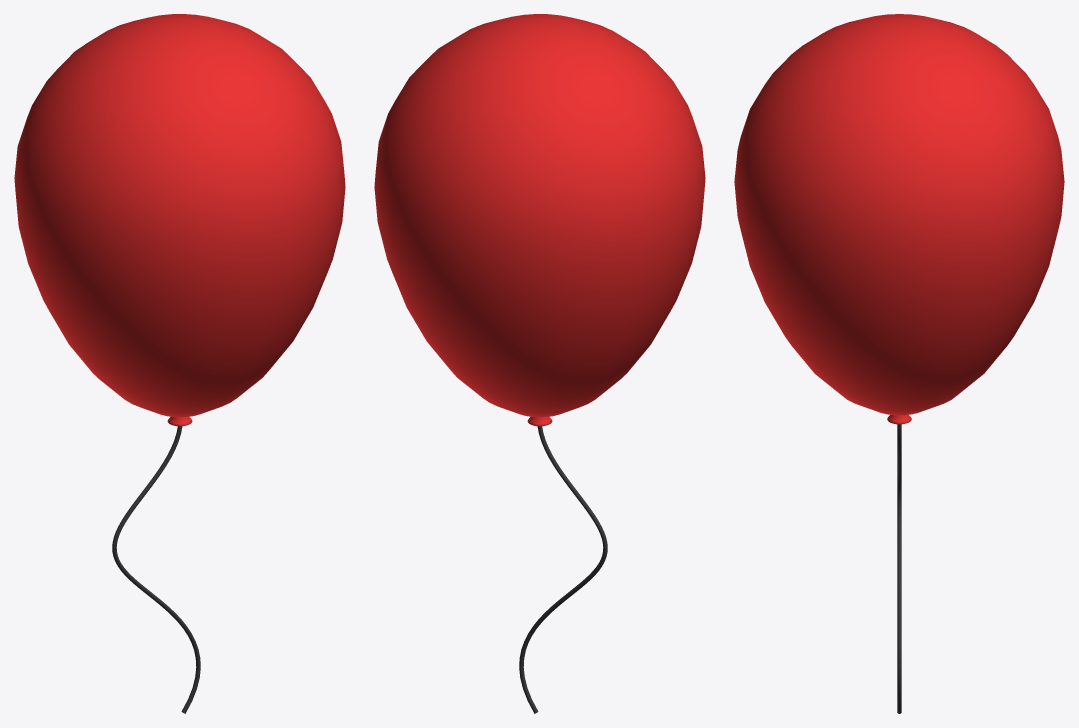
File: Balloon.fbx
3 renders of one model, left to right at view 1: azimuth 30°, elevation 25°; view 2: azimuth 150°, elevation 25°; view 3: azimuth 270°, elevation 25°, orthographic.
Parts seen in each view (by area): view 1: Cylinder; view 2: Cylinder; view 3: Cylinder.
Part boxes in pixels (x1,y1,x2,y2): Cylinder: (14, 14, 345, 713); Cylinder: (374, 14, 705, 713); Cylinder: (734, 14, 1064, 713).
Size of the model in its own units: 765 by 1743 by 765.
